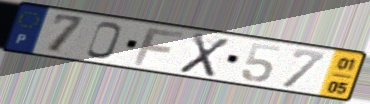0: (85, 21, 124, 60)
5: (239, 41, 284, 83)
7: (284, 47, 328, 90), (48, 12, 85, 55)
F: (131, 27, 187, 67)
X: (176, 31, 232, 79)
